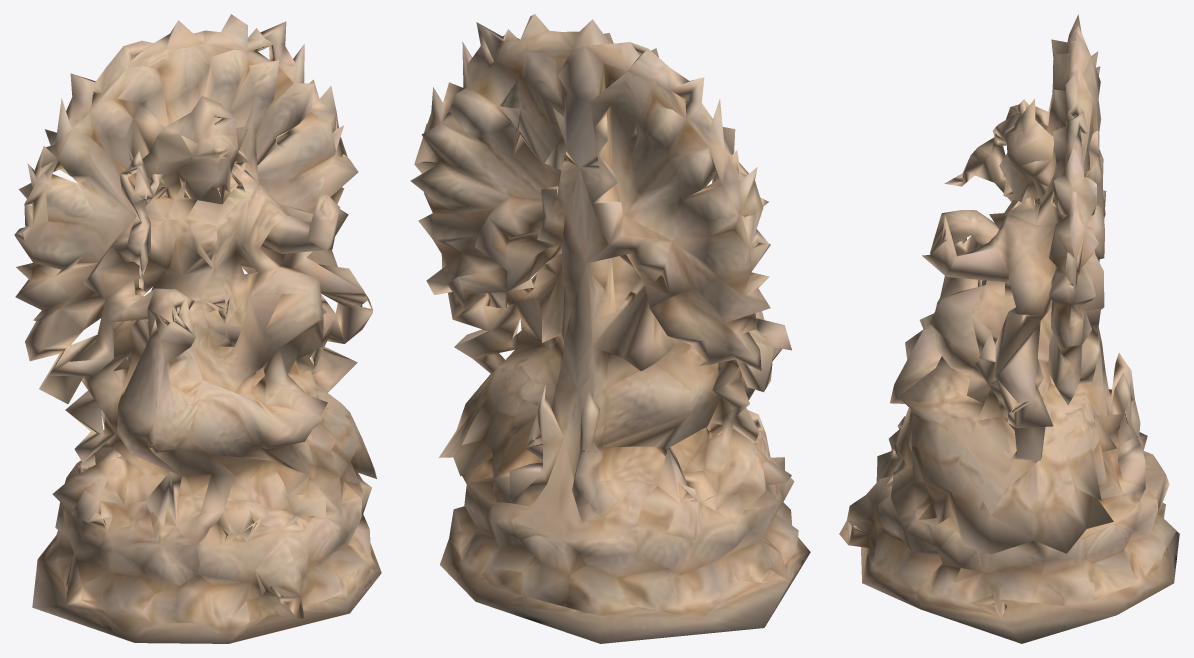
Rendered from far.glb.
3 renders of one model, left to right at view 1: azimuth 30°, elevation 25°; view 2: azimuth 150°, elevation 25°; view 3: azimuth 270°, elevation 25°, orthographic. The views are drawn at different scales.
Visible parts, largest first — view 1: owner-collection20-02; view 2: owner-collection20-02; view 3: owner-collection20-02.
Boxes of the visible parts, bbox=[...] form: owner-collection20-02: bbox=[14, 14, 381, 643]; owner-collection20-02: bbox=[410, 14, 810, 643]; owner-collection20-02: bbox=[839, 14, 1179, 643].
Bounding box in the file's own units: 0.6409 × 0.9945 × 0.5777.
Materials: 1 (1 with a texture image).
